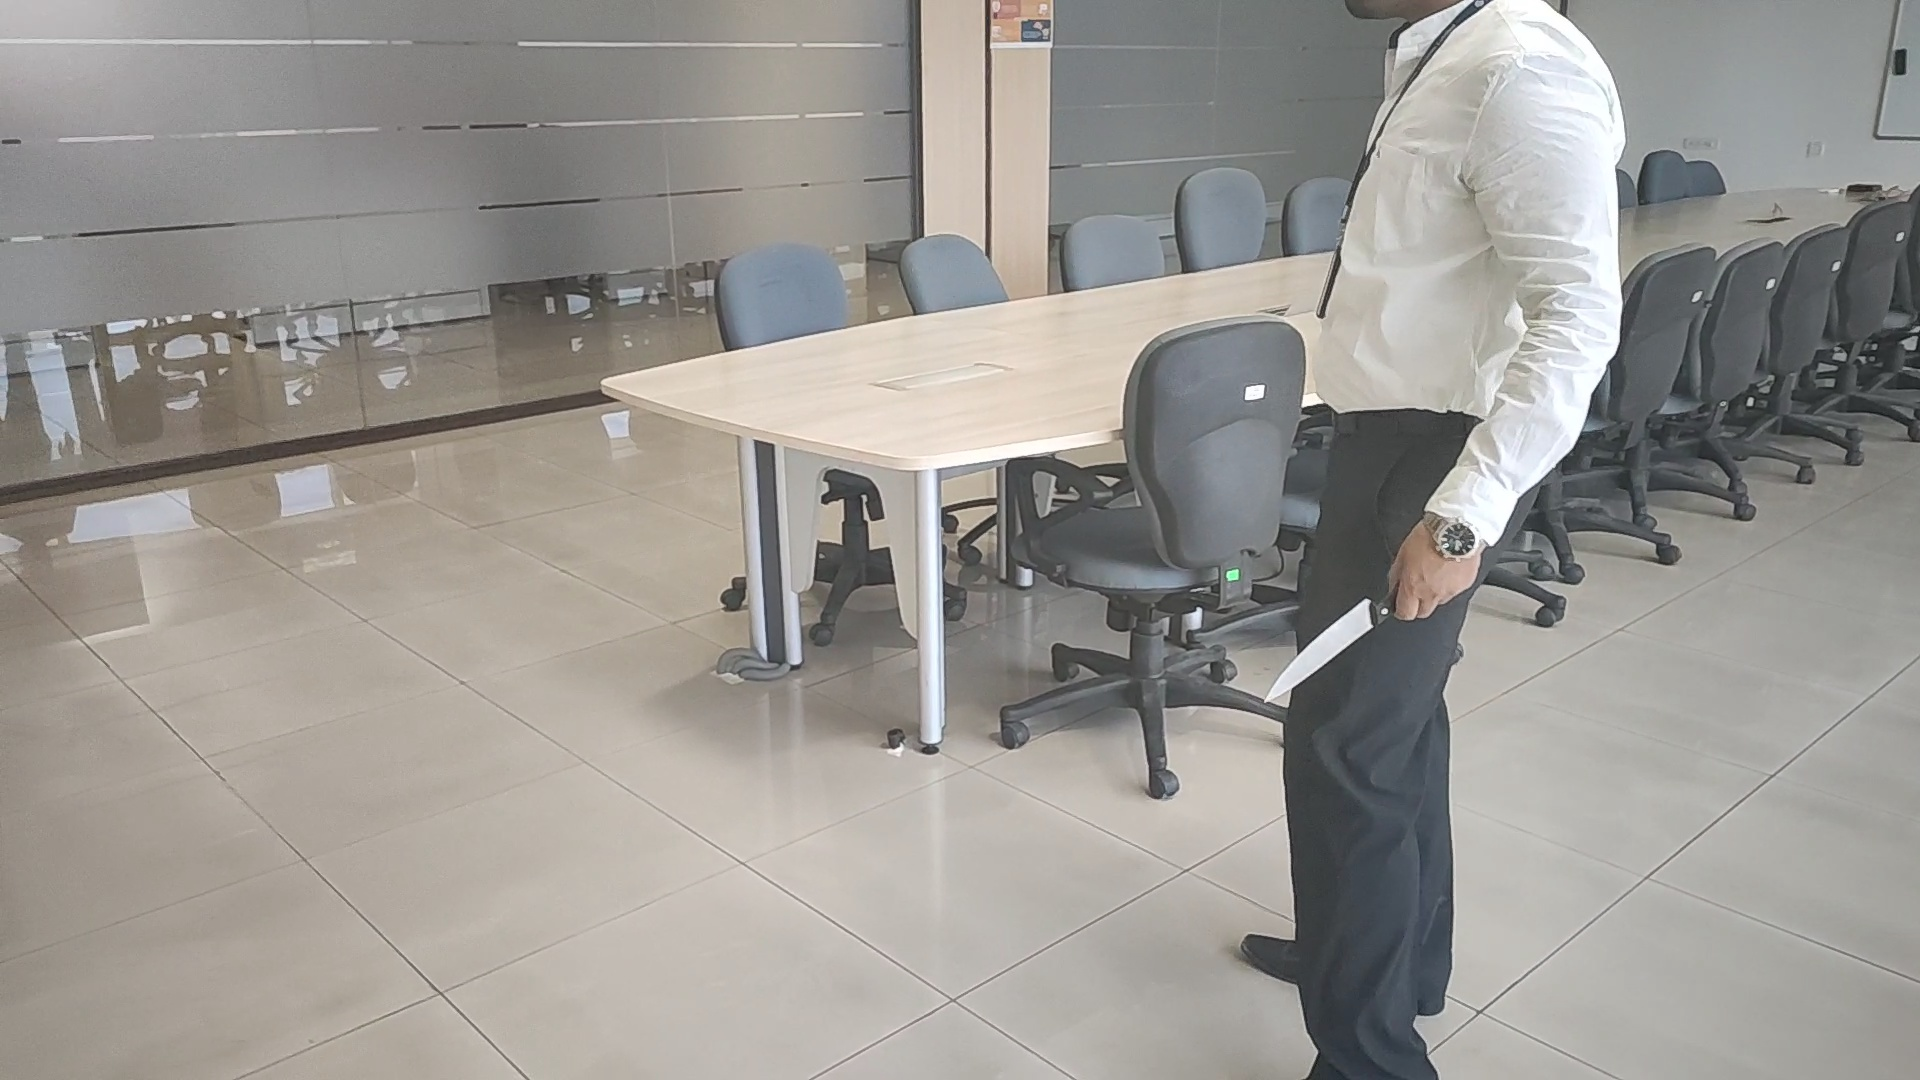knife: (1263, 578, 1396, 707)
